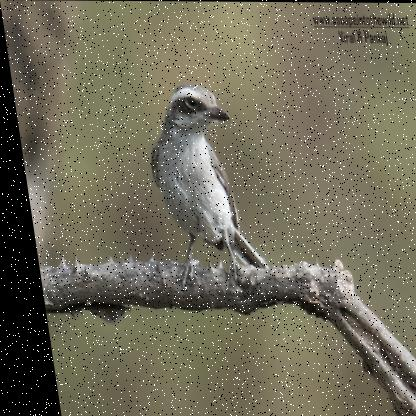Burung: (136, 84, 263, 289)
